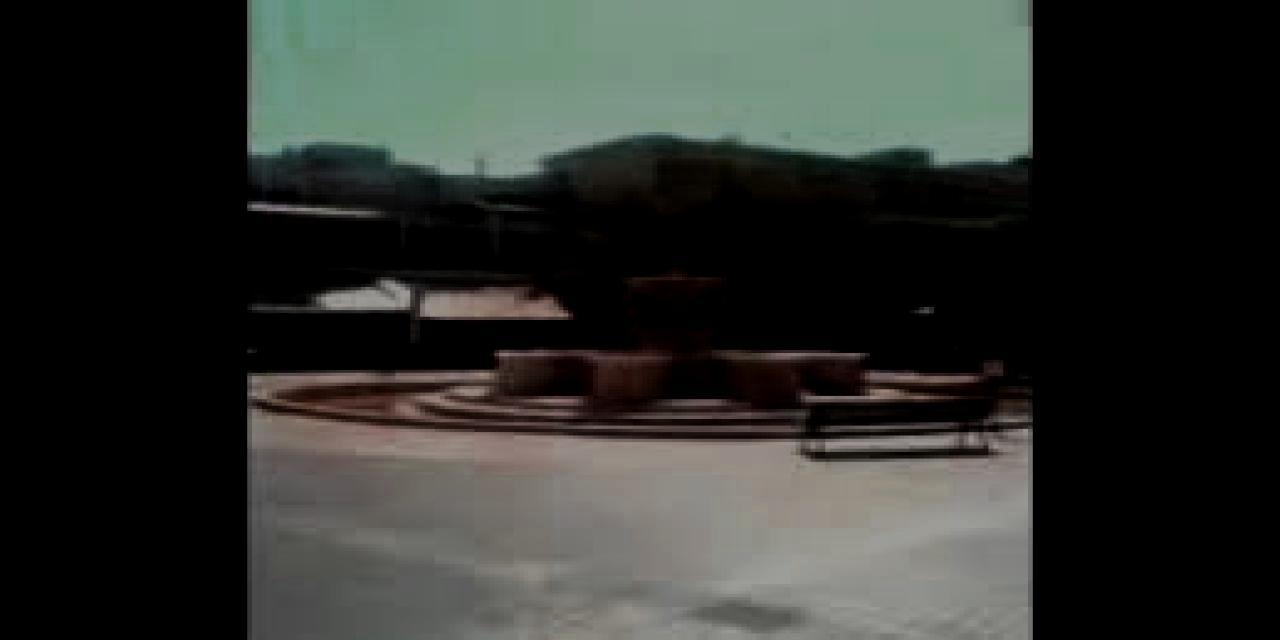Liontaria: (502, 271, 875, 412)
